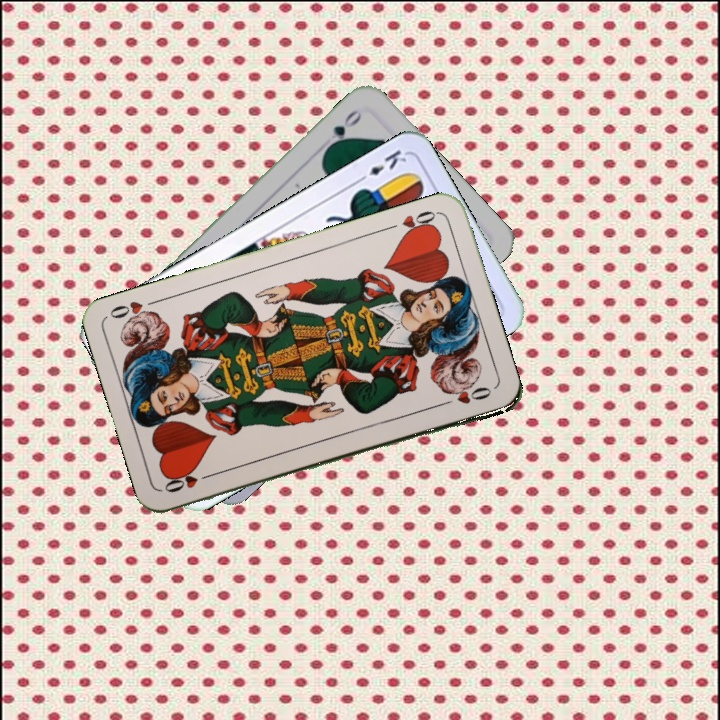EK: (353, 145, 410, 186)
GO: (322, 105, 366, 153)
HO: (382, 206, 440, 240), (160, 468, 218, 496)
